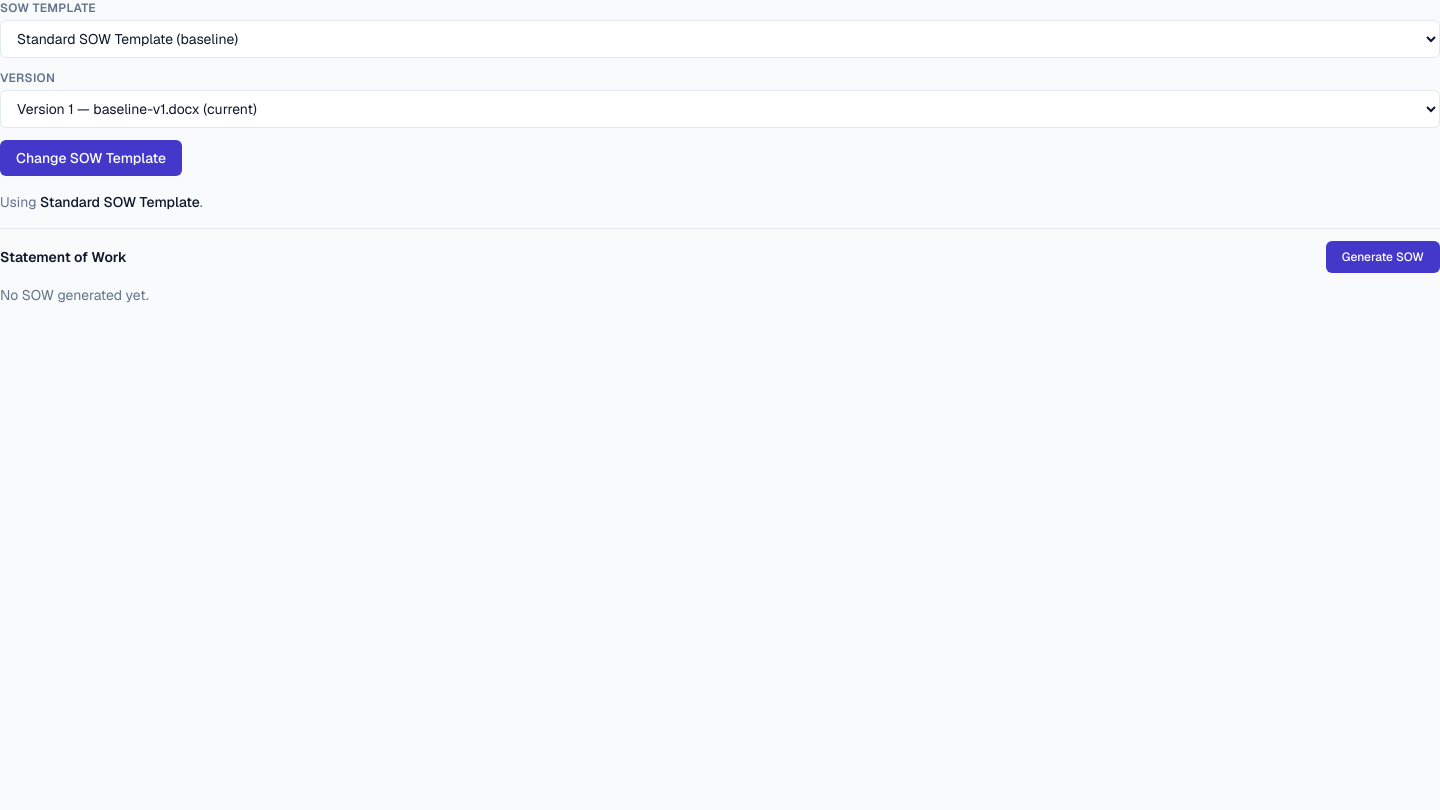
Test case: StartSowDevelopmentPanel › enables 'Generate SOW' once a template is selected; clicking opens the review overlay rather than generating straight away
The width and height of the screenshot is (1440, 810).
Step 1. Click the button "Generate SOW" → (1383, 257), box [1326,241,1439,273]
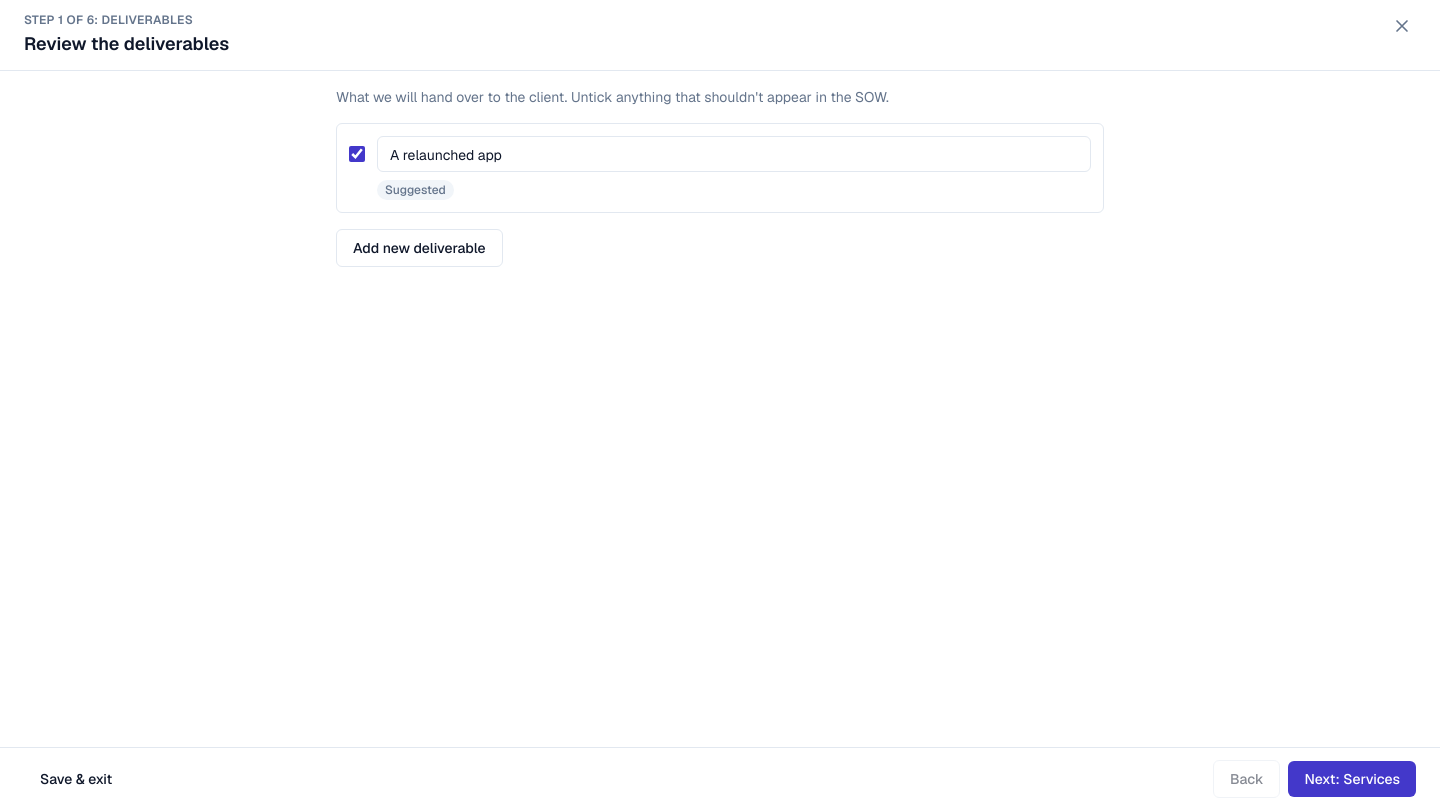
Expected: the dialog "Review the deliverables" is shown
Expected: the text with test id "step-indicator" reads "Step 1 of 6: Deliverables", [24,12,193,28]
